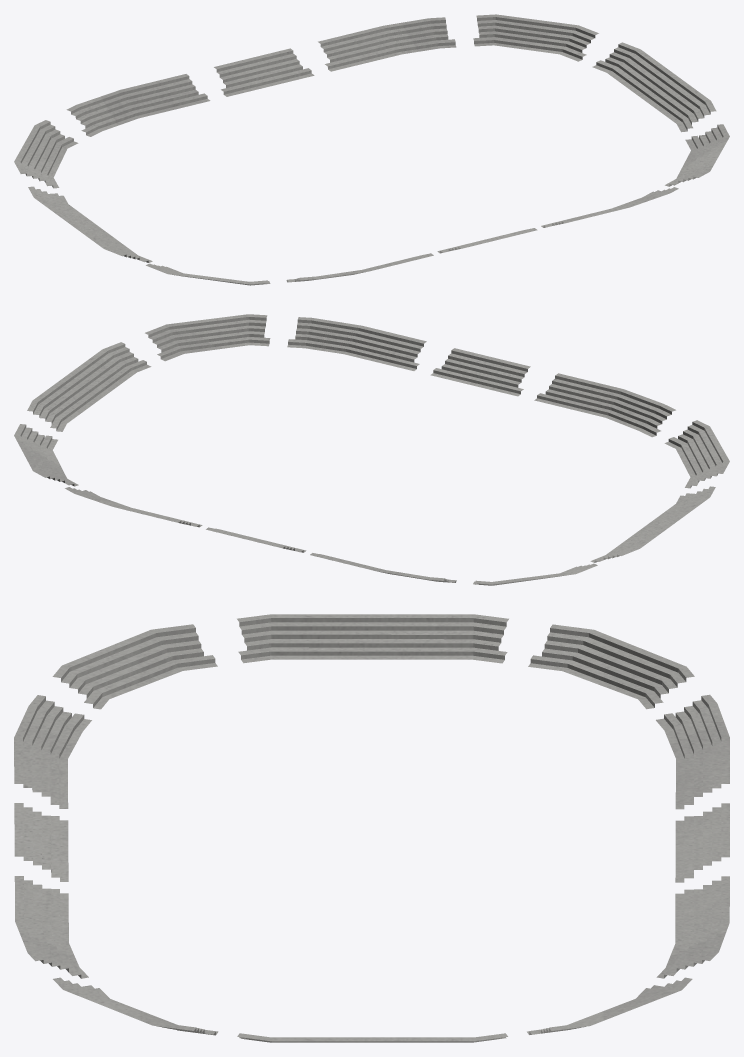
The model's file is Floor_3_Ufa.FBX.
3 renders of one model, top to bottom at view 1: azimuth 30°, elevation 25°; view 2: azimuth 150°, elevation 25°; view 3: azimuth 270°, elevation 25°, orthographic. The views are drawn at different scales.
Parts seen in each view (by area): view 1: Floor_3_Ufa; view 2: Floor_3_Ufa; view 3: Floor_3_Ufa.
Boxes of the visible parts, left/top/right/bottom form: Floor_3_Ufa: left=14, top=14, right=729, bottom=285; Floor_3_Ufa: left=14, top=314, right=729, bottom=585; Floor_3_Ufa: left=14, top=614, right=729, bottom=1042.
Bounding box in the file's own units: 103 × 2.4 × 72.7.
